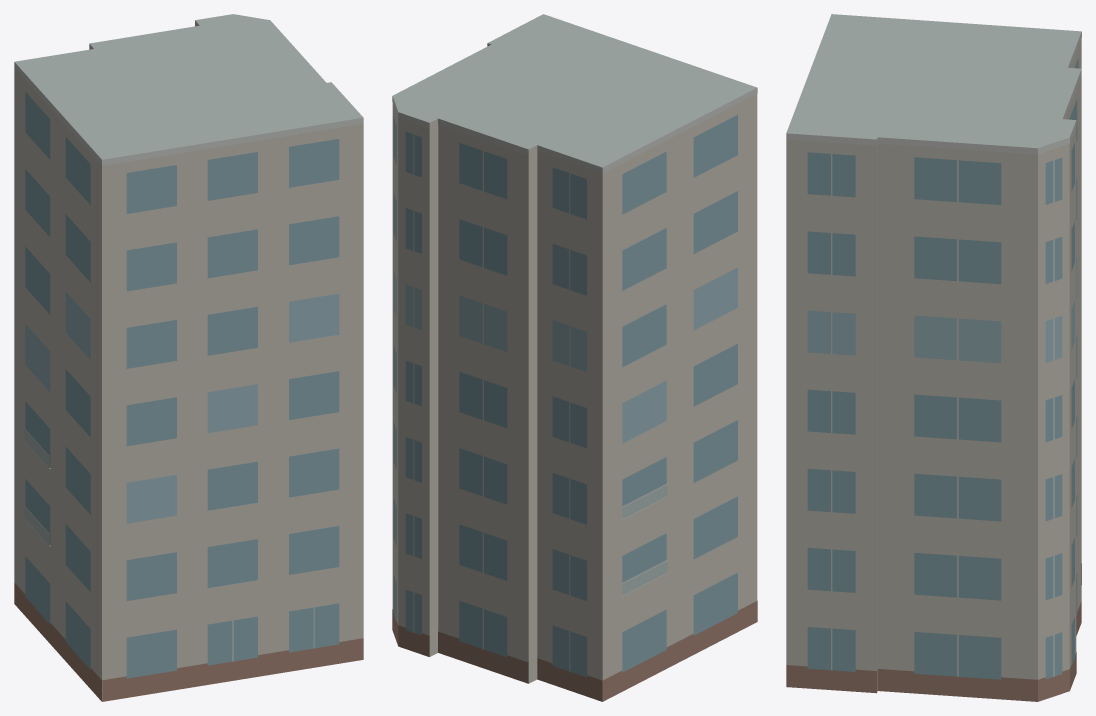
File: survey-upis-32792390.glb
3 views of the same model, side by side, from view 1: azimuth 30°, elevation 25°; view 2: azimuth 150°, elevation 25°; view 3: azimuth 270°, elevation 25° (orthographic). The views are drawn at different scales.
Visible parts, largest first — view 1: survey-upis-32792390.tmp; view 2: survey-upis-32792390.tmp; view 3: survey-upis-32792390.tmp.
Boxes of the visible parts, <box> form: survey-upis-32792390.tmp: <box>14,14,363,701</box>; survey-upis-32792390.tmp: <box>392,14,757,701</box>; survey-upis-32792390.tmp: <box>786,14,1081,701</box>.
Bounding box in the file's own units: 11.29 × 21.7 × 10.51.
